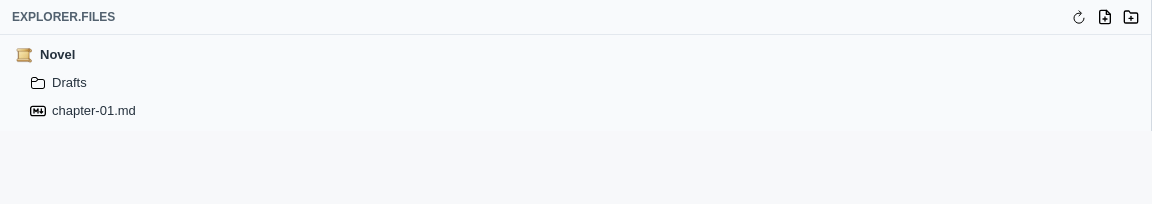
Test: FileExplorer › reloads root children for root selection while preserving expanded folders
Click the list item "Drafts": (69, 82) [6, 69, 1145, 97]
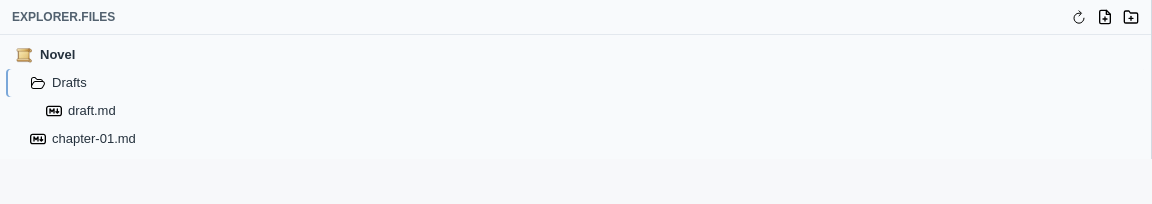
Click the list item "Novel": (58, 54) [6, 41, 1145, 69]
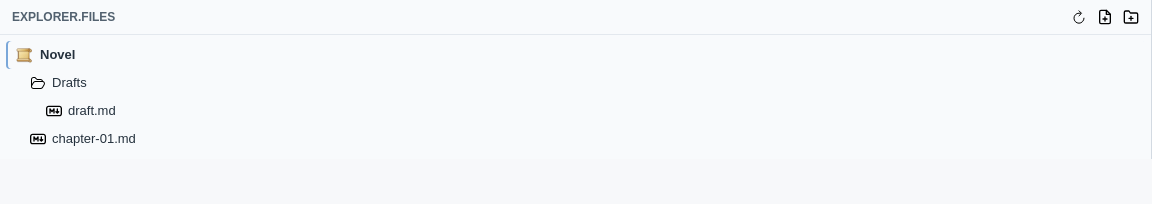
Click the button named "explorer.reload": (1079, 17) [1067, 5, 1091, 29]
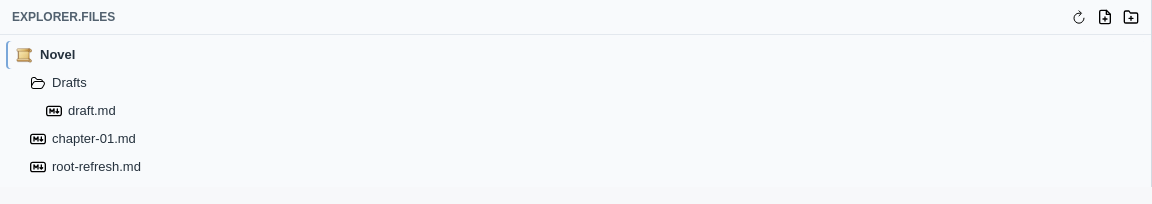
Result: the text "draft.md" is shown at [68, 103, 116, 118]
Result: the text "root-refresh.md" is shown at [52, 159, 141, 174]
